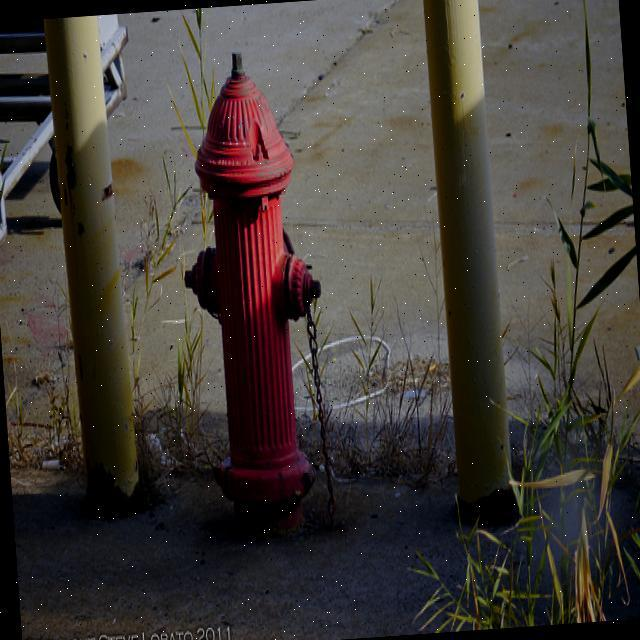fire_hydrant: (169, 47, 330, 446)
